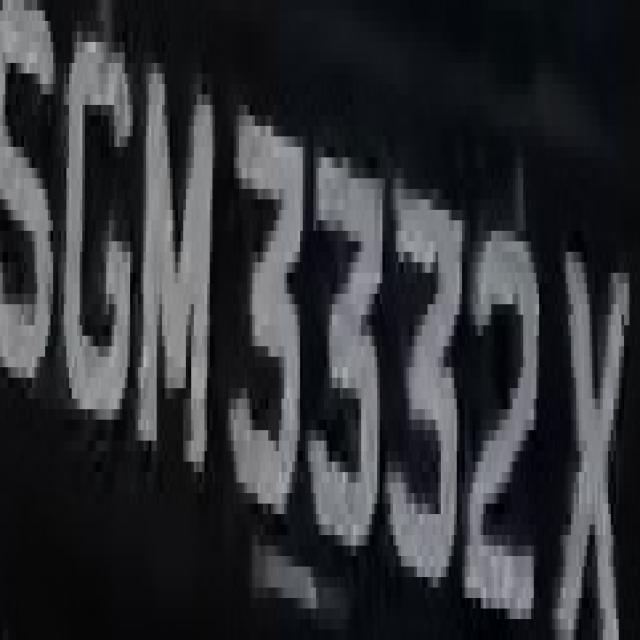2: (468, 178, 544, 619)
3: (303, 105, 393, 629), (231, 52, 303, 588), (393, 136, 465, 619)
G: (64, 21, 138, 472)
M: (136, 42, 220, 504)
S: (5, 11, 61, 462)
X: (2, 3, 3, 11)
